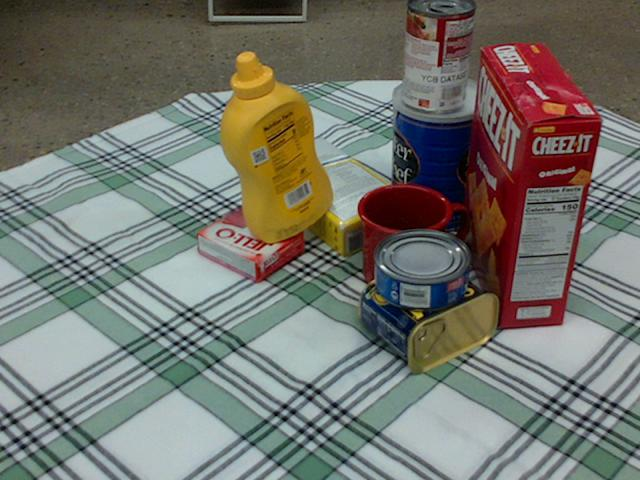cracker_box: (459, 44, 604, 326)
gelatin_box: (196, 206, 305, 284)
master_chef_can: (387, 75, 491, 232)
mug: (358, 184, 468, 297)
mustard_bottle: (219, 52, 332, 242)
potted_meat_can: (362, 251, 502, 370)
sugar_box: (254, 135, 410, 256)
tomato_soup_can: (402, 0, 475, 113)
tuna_fish_can: (374, 229, 470, 310)
